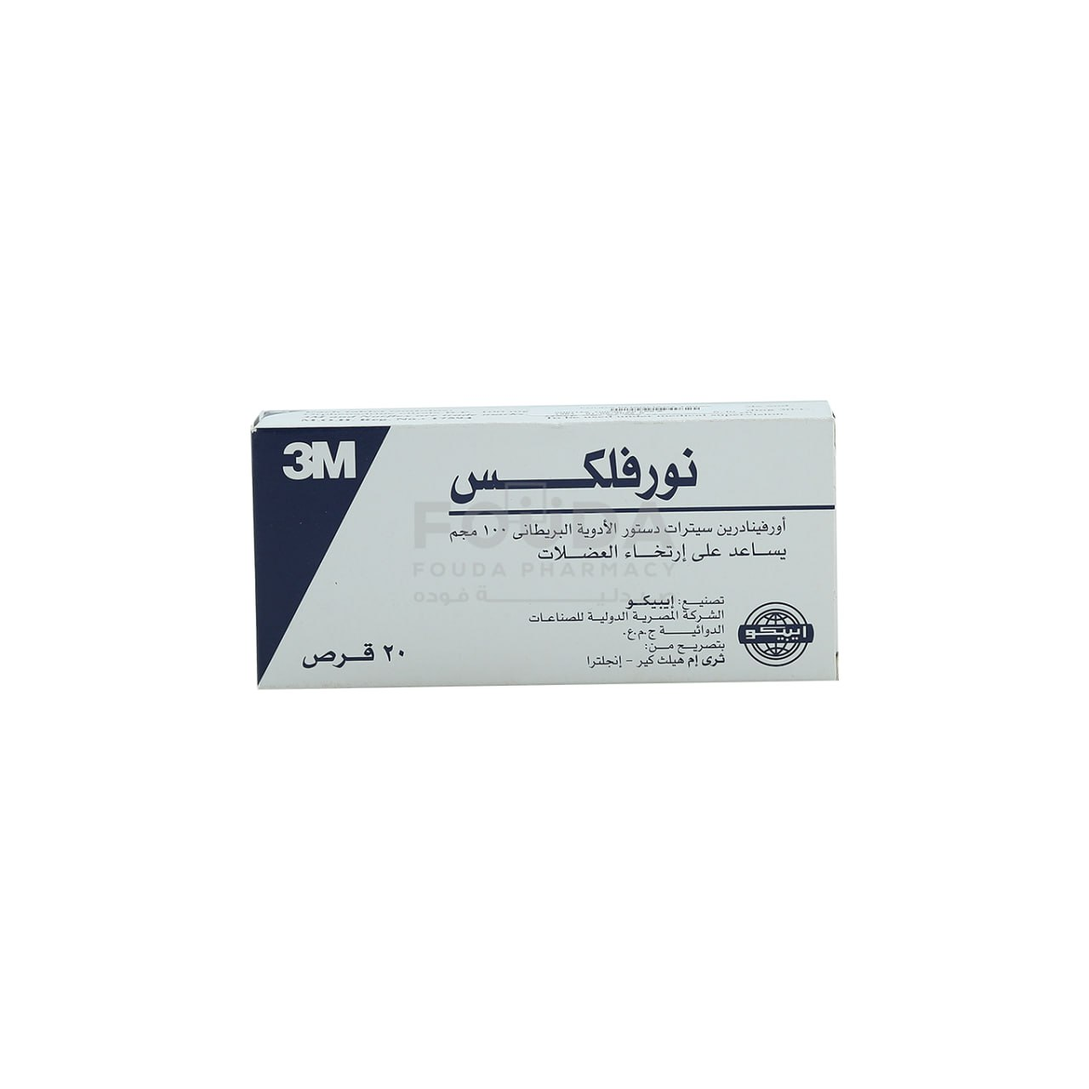Medicine: (233, 394, 851, 700)
